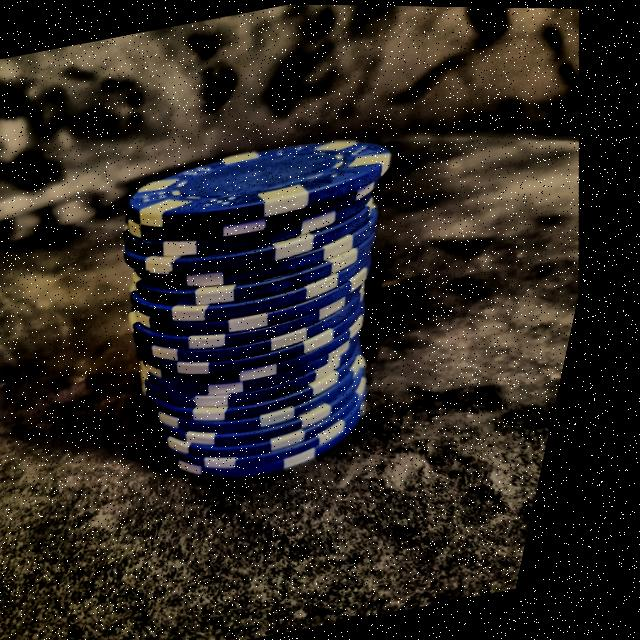Chip: (53, 101, 486, 508)
